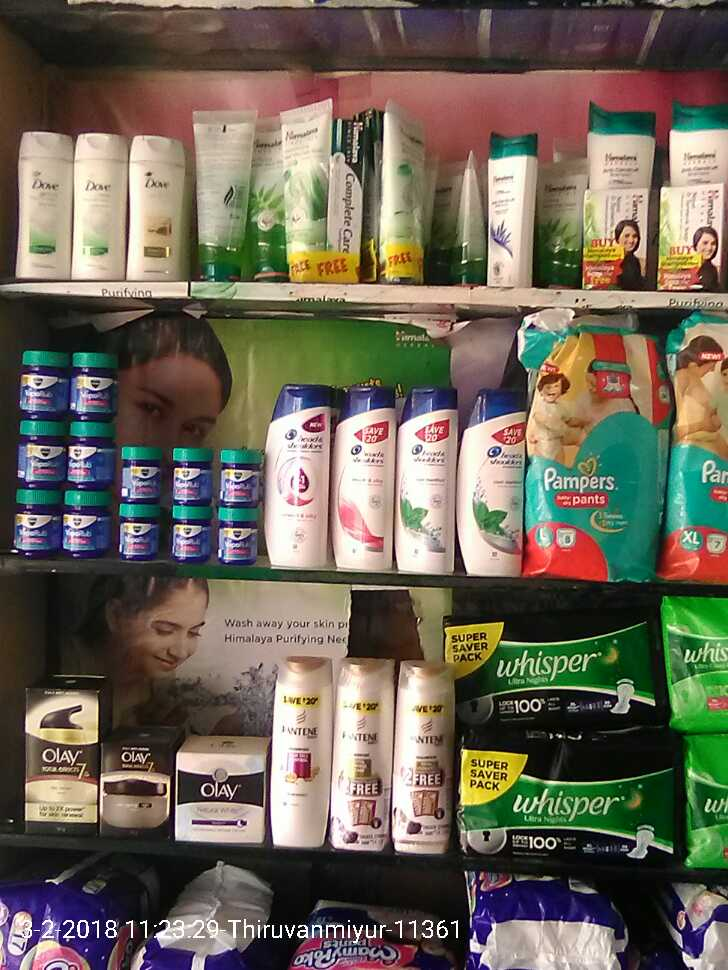vicks: (14, 418, 67, 489), (11, 489, 67, 556), (65, 417, 115, 488), (68, 348, 115, 417), (21, 348, 68, 417), (65, 488, 110, 556), (120, 448, 163, 503), (220, 449, 259, 506), (120, 503, 159, 559), (220, 506, 257, 564), (174, 503, 210, 562), (174, 448, 211, 503)
